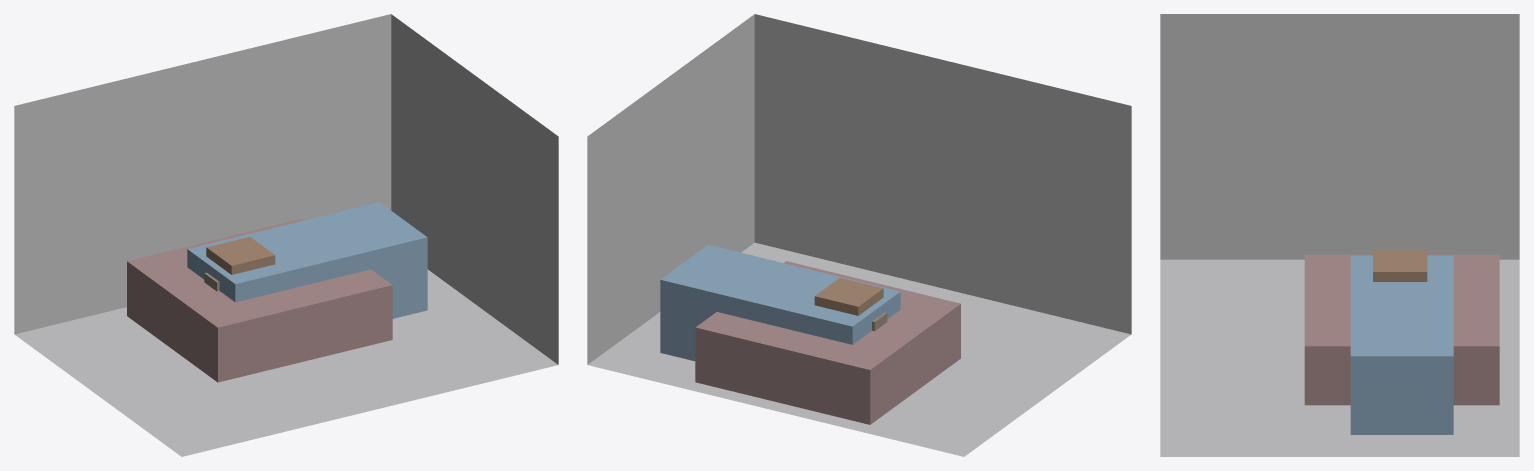
The model's file is optimised_layout.glb.
The picture shows the model from 3 angles, left to right: view 1: azimuth 30°, elevation 25°; view 2: azimuth 150°, elevation 25°; view 3: azimuth 270°, elevation 25°; orthographic projection. The views are drawn at different scales.
Visible parts, largest first — view 1: room, bed, couch, chair; view 2: room, bed, couch, chair; view 3: room, couch, bed, chair.
Boxes of the visible parts, bbox=[...] form: room: bbox=[14, 14, 558, 456]; bed: bbox=[127, 218, 392, 382]; couch: bbox=[187, 202, 427, 318]; chair: bbox=[206, 237, 275, 274]; room: bbox=[587, 14, 1131, 456]; bed: bbox=[695, 261, 960, 424]; couch: bbox=[660, 244, 900, 361]; chair: bbox=[814, 278, 883, 315]; room: bbox=[1160, 14, 1519, 456]; couch: bbox=[1350, 255, 1453, 434]; bed: bbox=[1304, 254, 1499, 405]; chair: bbox=[1373, 249, 1427, 281].
Bounding box in the file's own units: 4.31 × 2.5 × 3.32.
